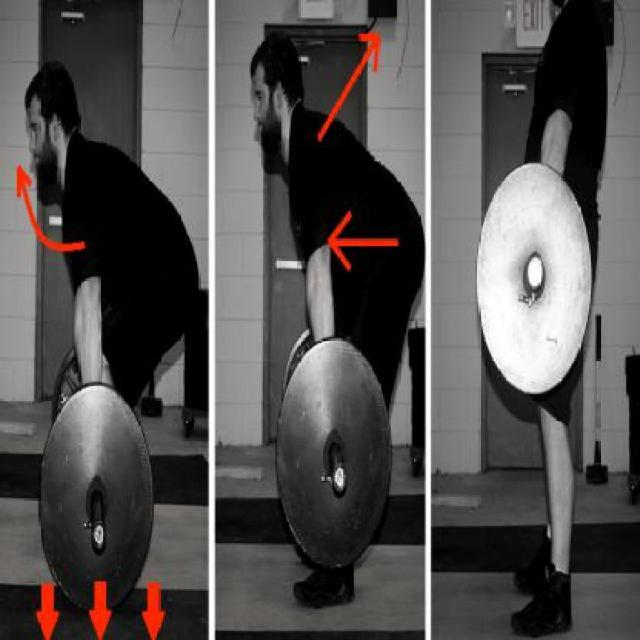Barbell: (89, 516, 109, 558), (526, 252, 545, 294), (331, 462, 347, 500)
